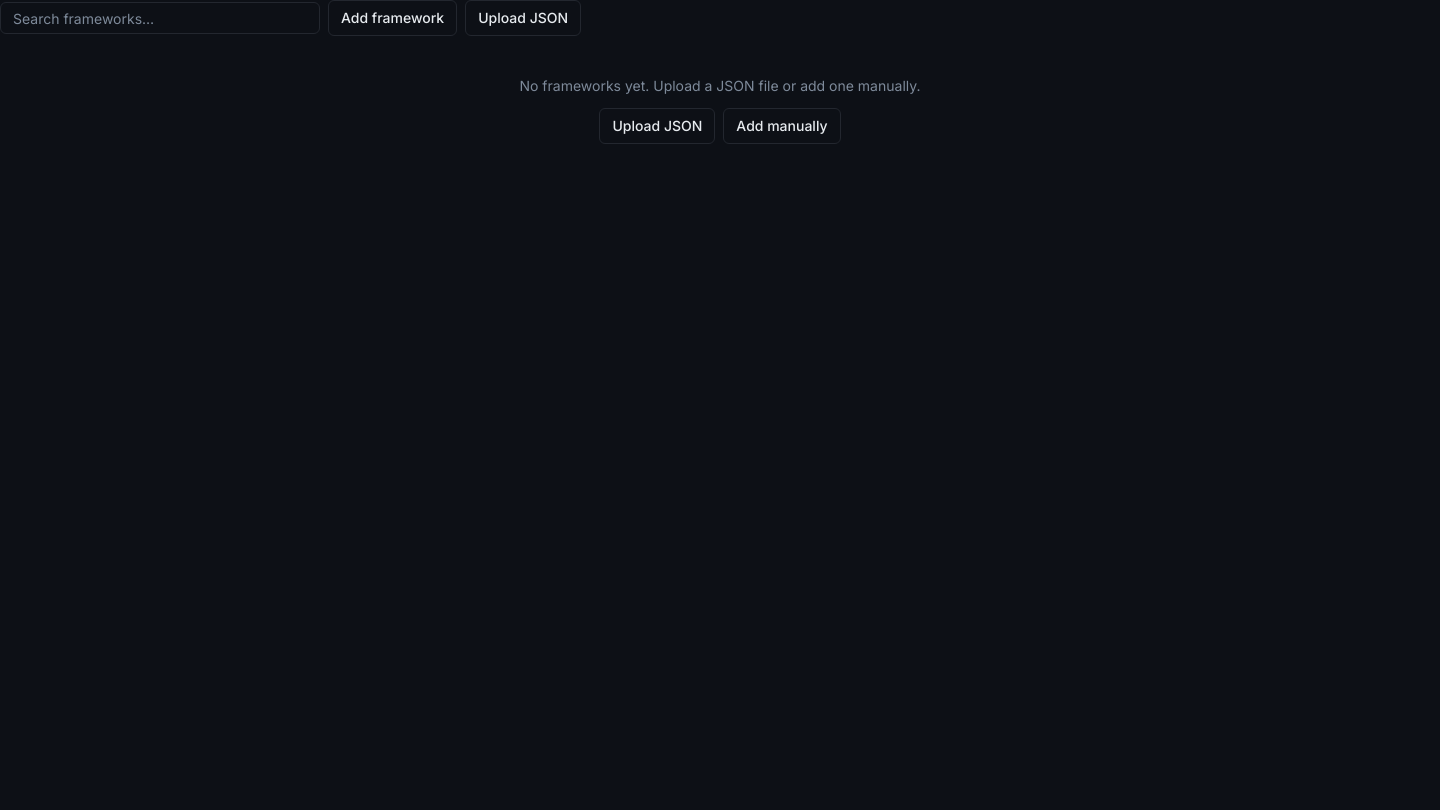
FrameworkLibraryTab — KIN-320 (edit, add, upload) › add manually › empty form is shown when Add manually is clicked in empty state
This screenshot has width=1440, height=810.
Expected: the text "No frameworks yet. Upload a JSON file or add one manually." is shown, [520,77,921,94]
Click the button "Add manually": (782, 126) [723,108,841,144]
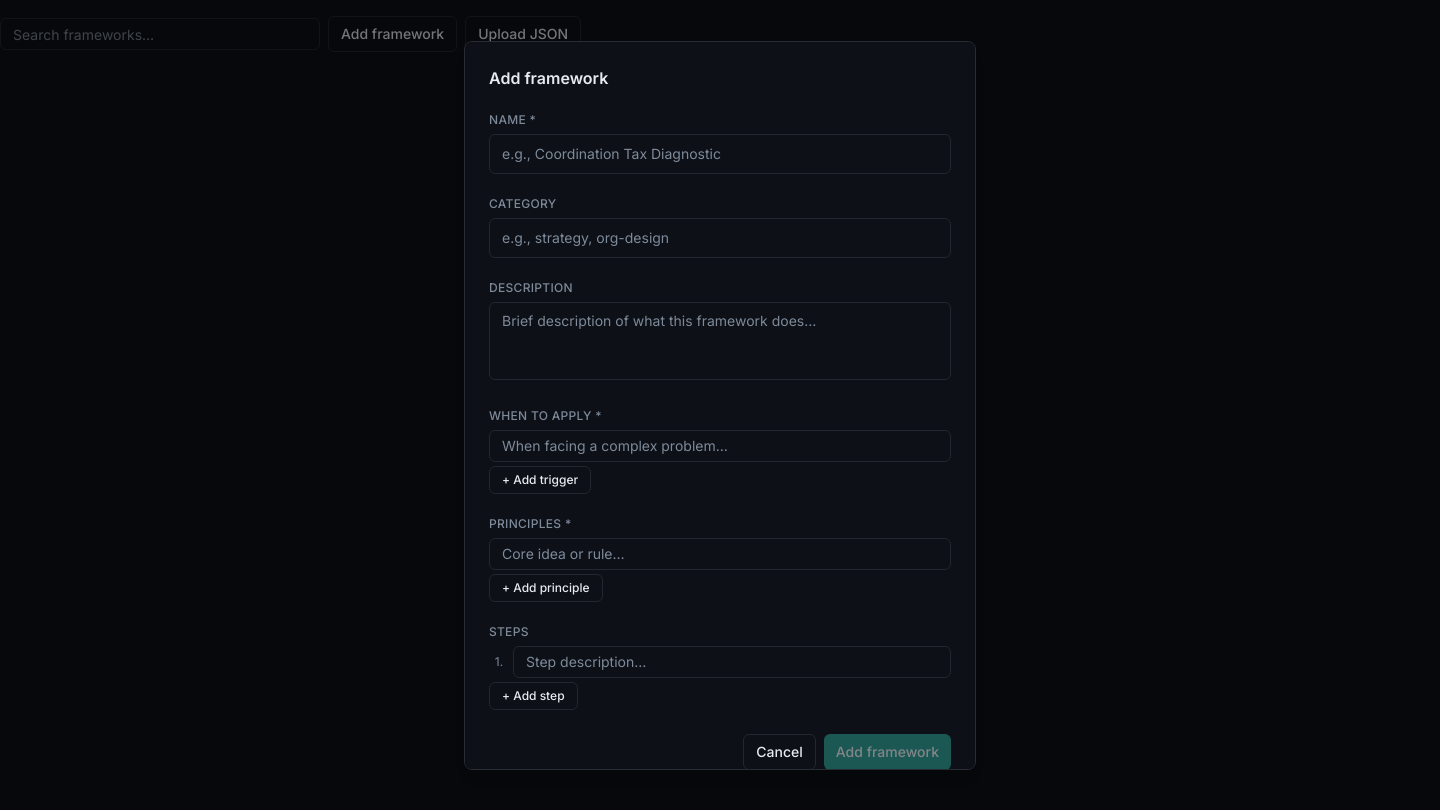
Expected: the heading "Add framework" is shown, [489,68,608,88]
Expected: the field with placeholder "e.g., Coordination Tax Diagnostic" is empty, [489,134,951,174]
